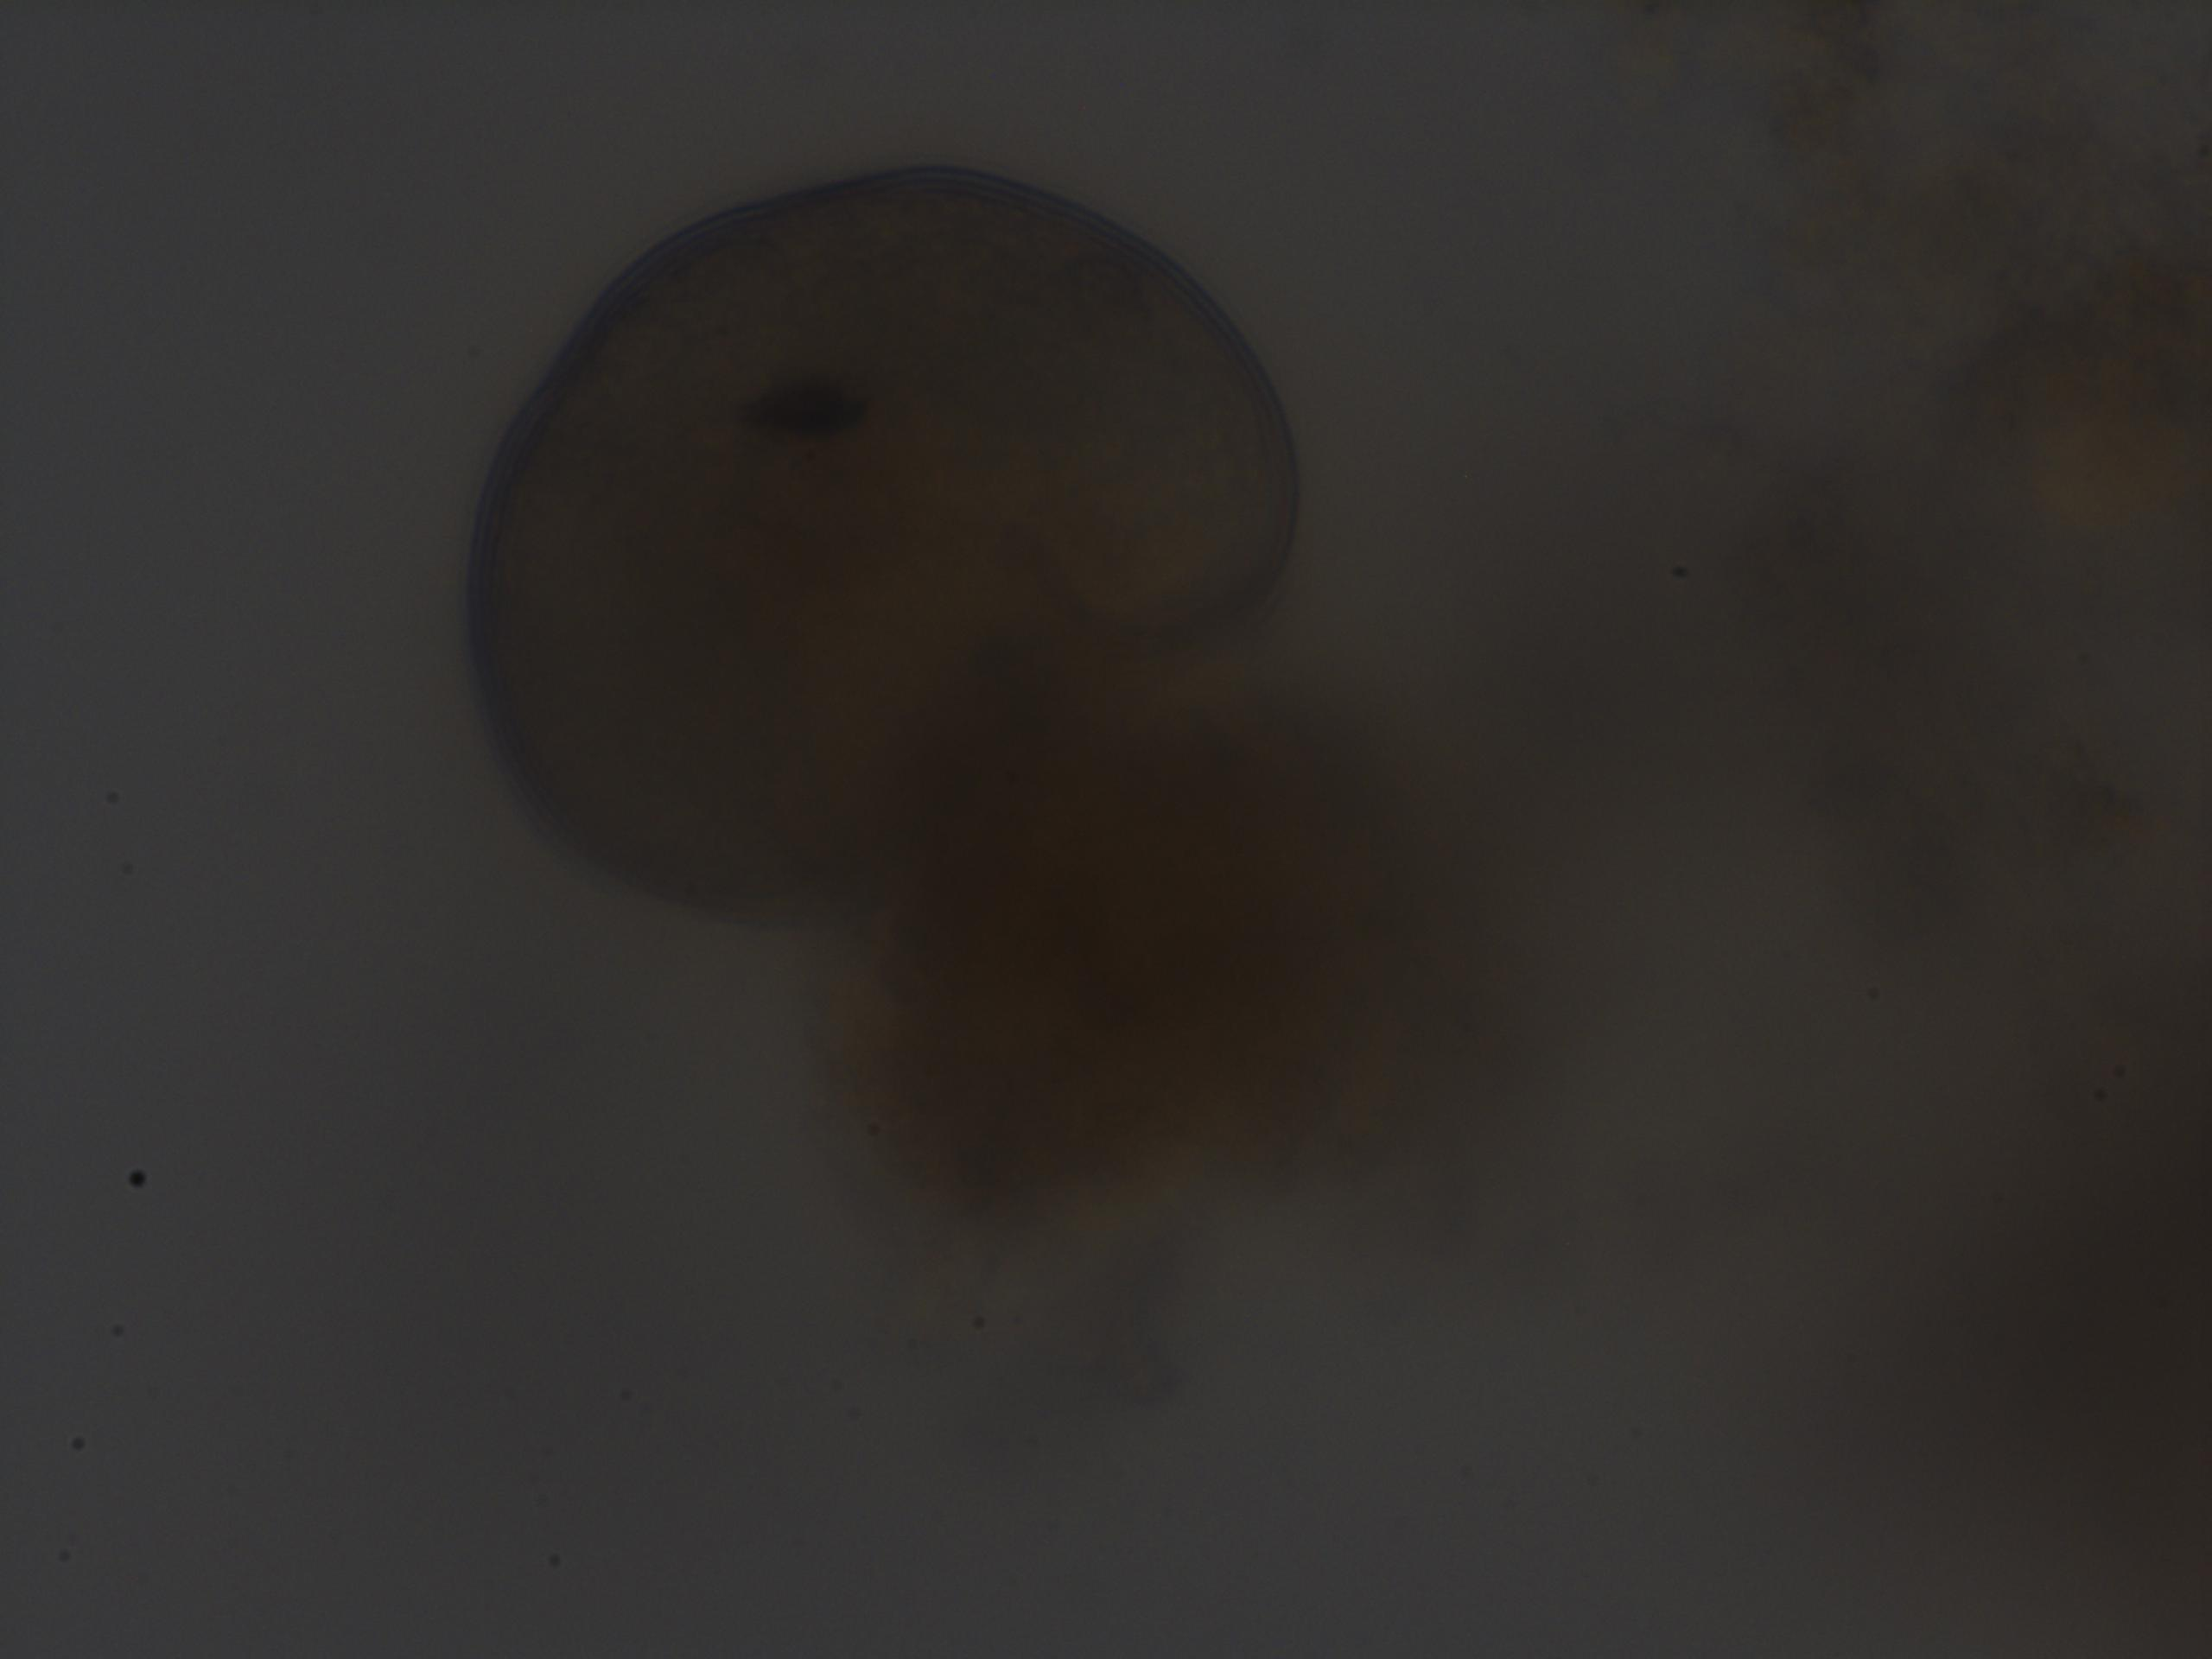protozoa: (442, 150, 1378, 925)
